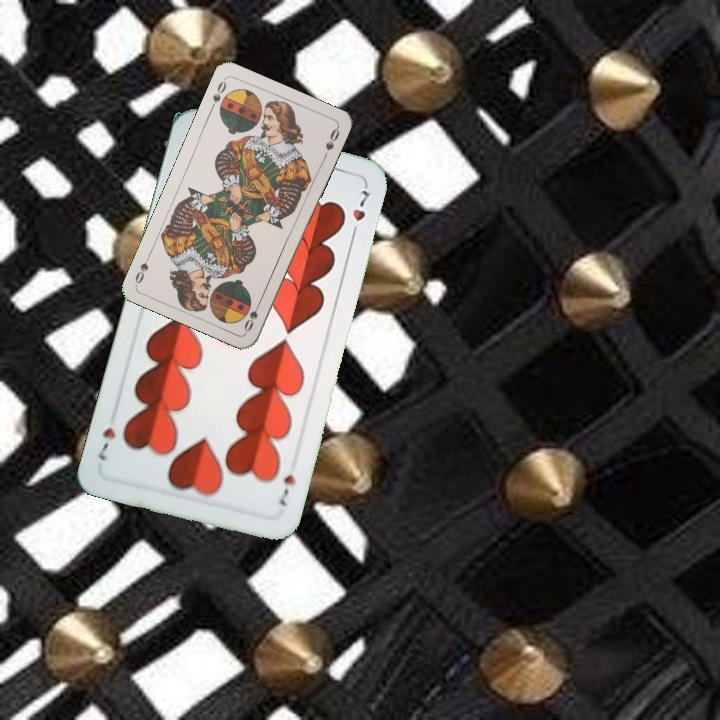H7: (275, 471, 299, 509)
SO: (240, 296, 264, 334), (206, 75, 229, 113)
